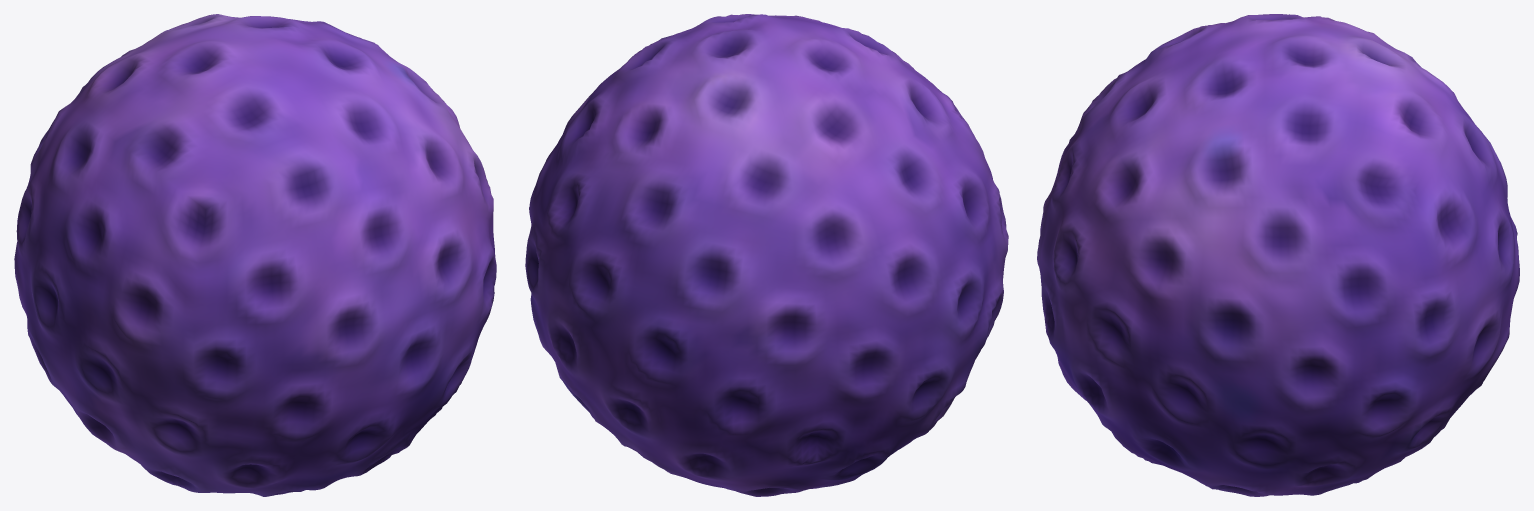
The model's file is nucleus.glb.
The picture shows the model from 3 angles, left to right: view 1: azimuth 30°, elevation 25°; view 2: azimuth 150°, elevation 25°; view 3: azimuth 270°, elevation 25°; orthographic projection.
Visible parts, largest first — view 1: nucleus-envelope; view 2: nucleus-envelope; view 3: nucleus-envelope.
Part boxes in pixels (x1,y1,x2,y2): nucleus-envelope: (14, 14, 496, 496); nucleus-envelope: (525, 14, 1008, 496); nucleus-envelope: (1037, 14, 1519, 496).
Size of what is drawn, in the model's own units: 6.07 by 6.11 by 6.08.
